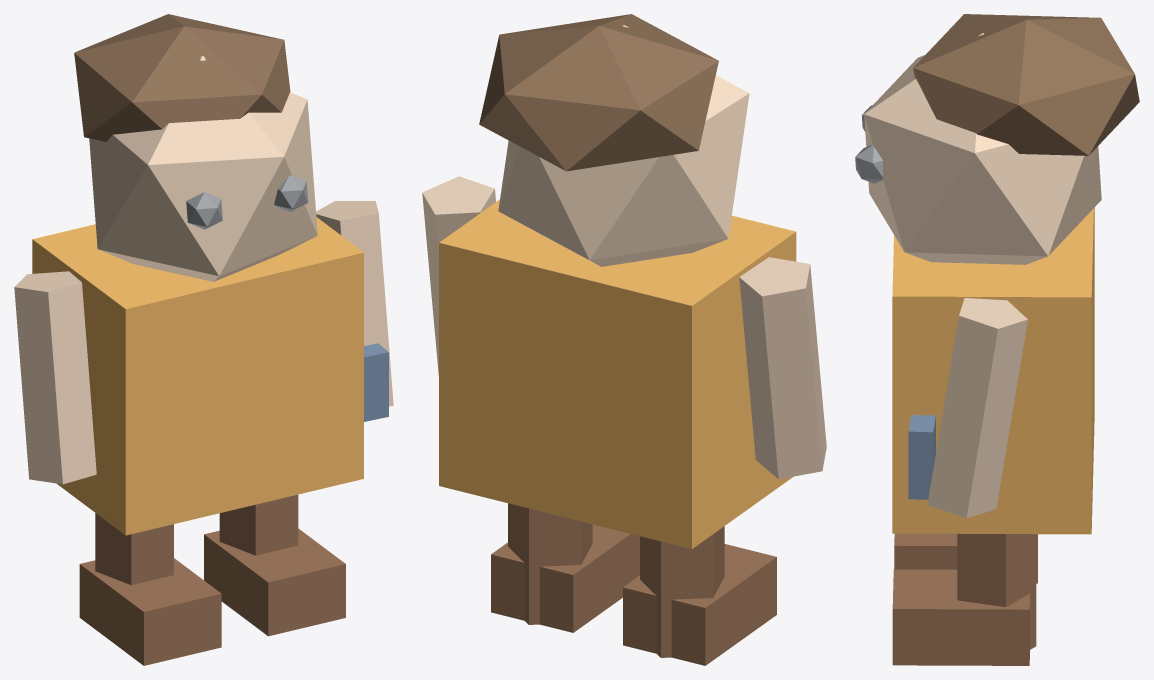
Rendered from npcpose_villager_idle_06.glb.
The picture shows the model from 3 angles, left to right: view 1: azimuth 30°, elevation 25°; view 2: azimuth 150°, elevation 25°; view 3: azimuth 270°, elevation 25°; orthographic projection. The views are drawn at different scales.
Parts seen in each view (by area): view 1: npcpose; view 2: npcpose; view 3: npcpose.
Part boxes in pixels (box(x1,y1,x2,y2)): npcpose: box(14, 14, 393, 665); npcpose: box(422, 14, 826, 665); npcpose: box(855, 14, 1139, 665).
Bounding box in the file's own units: 0.6982 × 1.06 × 0.4572.
